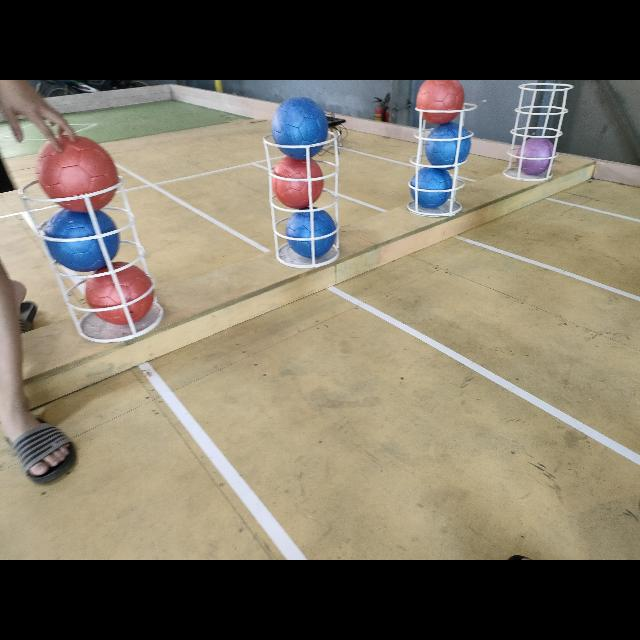B: (44, 208, 120, 270), (272, 96, 328, 160), (288, 208, 336, 258), (426, 122, 470, 168), (411, 167, 452, 209)
R: (36, 134, 118, 212), (86, 262, 154, 324), (271, 156, 323, 208), (417, 80, 465, 122)
